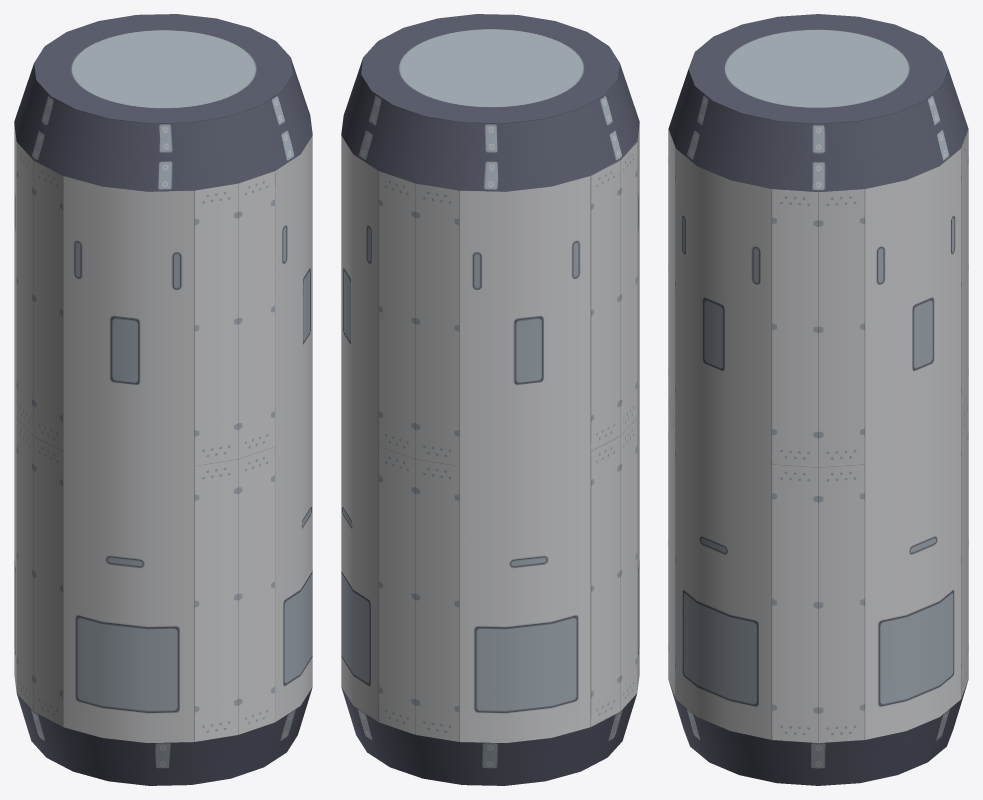
The model's file is Space_X_Engine.FBX.
The picture shows the model from 3 angles, left to right: view 1: azimuth 30°, elevation 25°; view 2: azimuth 150°, elevation 25°; view 3: azimuth 270°, elevation 25°; orthographic projection.
Visible parts, largest first — view 1: Space_X_Engine; view 2: Space_X_Engine; view 3: Space_X_Engine.
Boxes of the visible parts, <box> form: Space_X_Engine: <box>14,14,312,785</box>; Space_X_Engine: <box>341,14,639,785</box>; Space_X_Engine: <box>668,14,968,785</box>.
Bounding box in the file's own units: 6.65 × 16.14 × 6.65.
